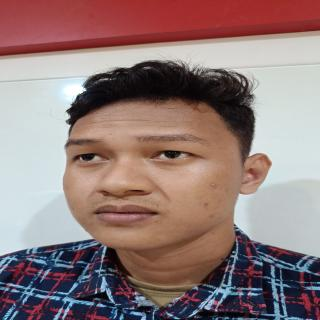Takut: (61, 104, 247, 250)
